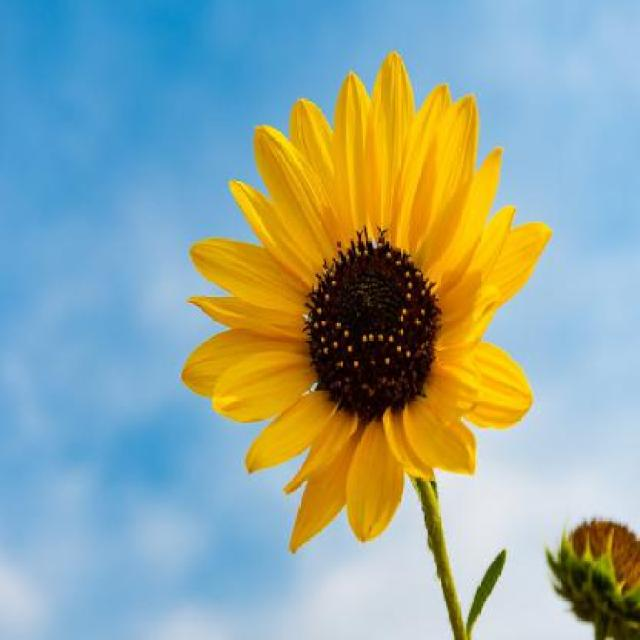sunflower: (183, 52, 540, 531)
